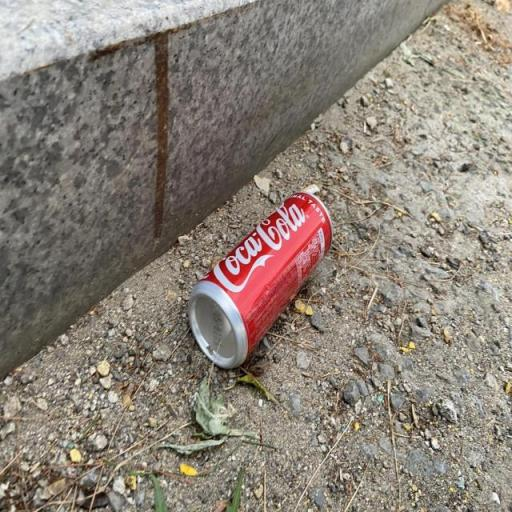metal: (168, 183, 348, 375)
